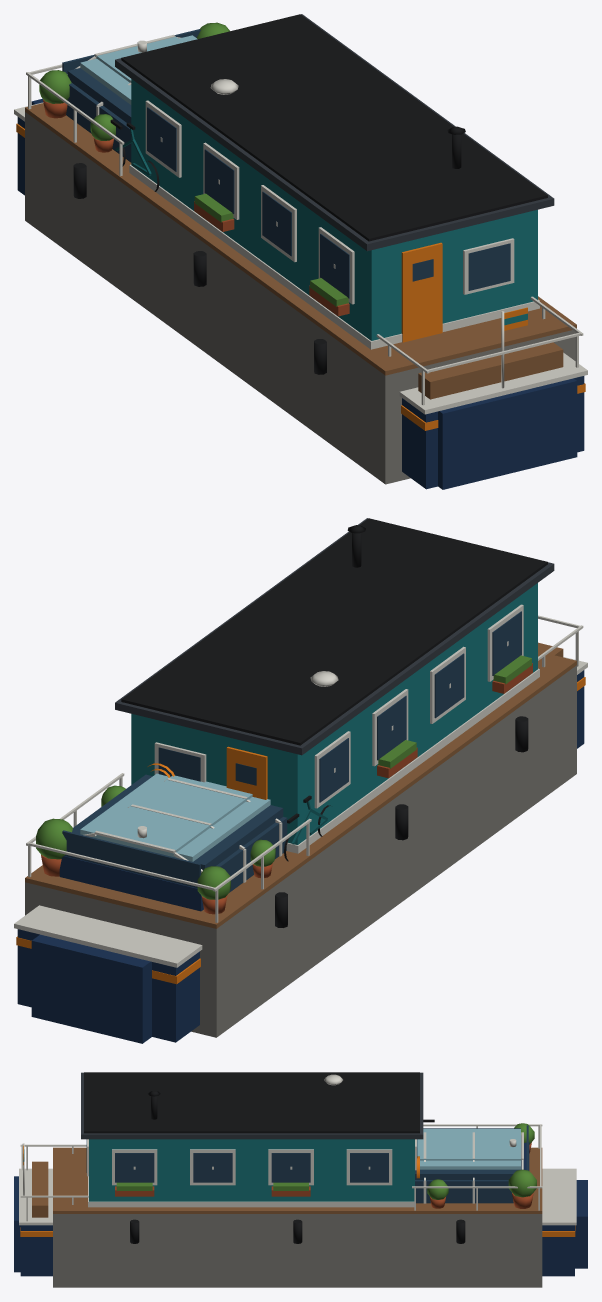
Rendered from canal.glb.
3 renders of one model, top to bottom at view 1: azimuth 30°, elevation 25°; view 2: azimuth 150°, elevation 25°; view 3: azimuth 270°, elevation 25°, orthographic. The views are drawn at different scales.
Visible parts, largest first — view 1: houseboat, tourboat; view 2: houseboat, tourboat; view 3: houseboat, tourboat.
Boxes of the visible parts, <box> form: houseboat: <box>25,14,576,484</box>; tourboat: <box>14,29,587,489</box>; houseboat: <box>25,518,576,1037</box>; tourboat: <box>14,615,587,1043</box>; houseboat: <box>53,1072,542,1287</box>; tourboat: <box>14,1125,587,1276</box>.
Size of the model in its own units: 5.12 by 6.13 by 17.6.
